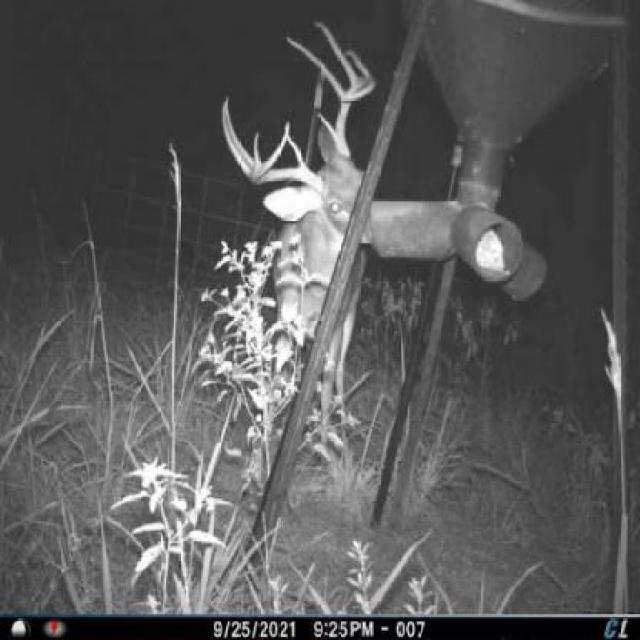Deer: (218, 9, 374, 483)
